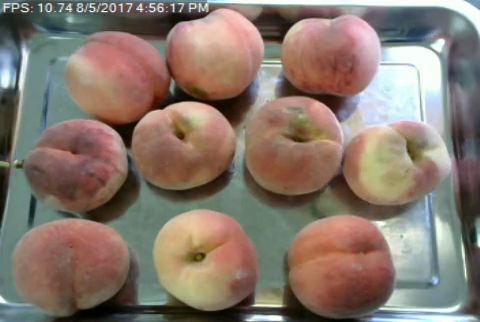Peach: (16, 217, 132, 314), (287, 213, 394, 318), (153, 210, 258, 311), (24, 119, 130, 212), (243, 96, 343, 194), (66, 29, 168, 125), (130, 99, 235, 190), (166, 7, 264, 101), (342, 120, 449, 206), (280, 14, 379, 99)
